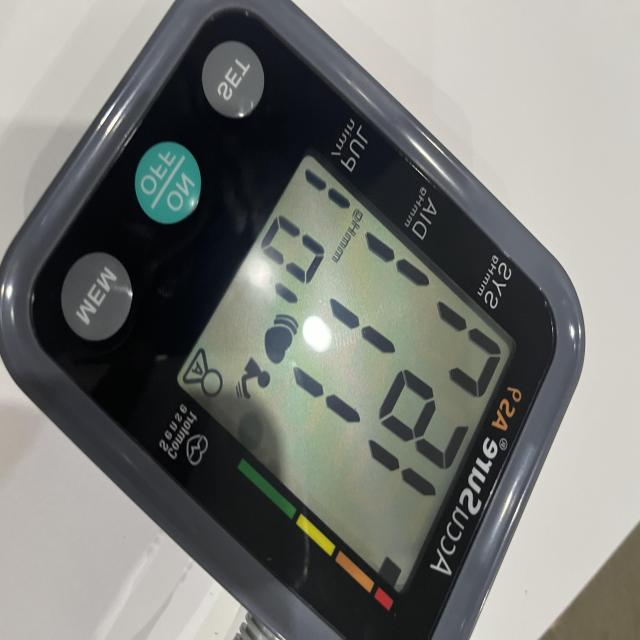bp: (0, 0, 587, 640)
